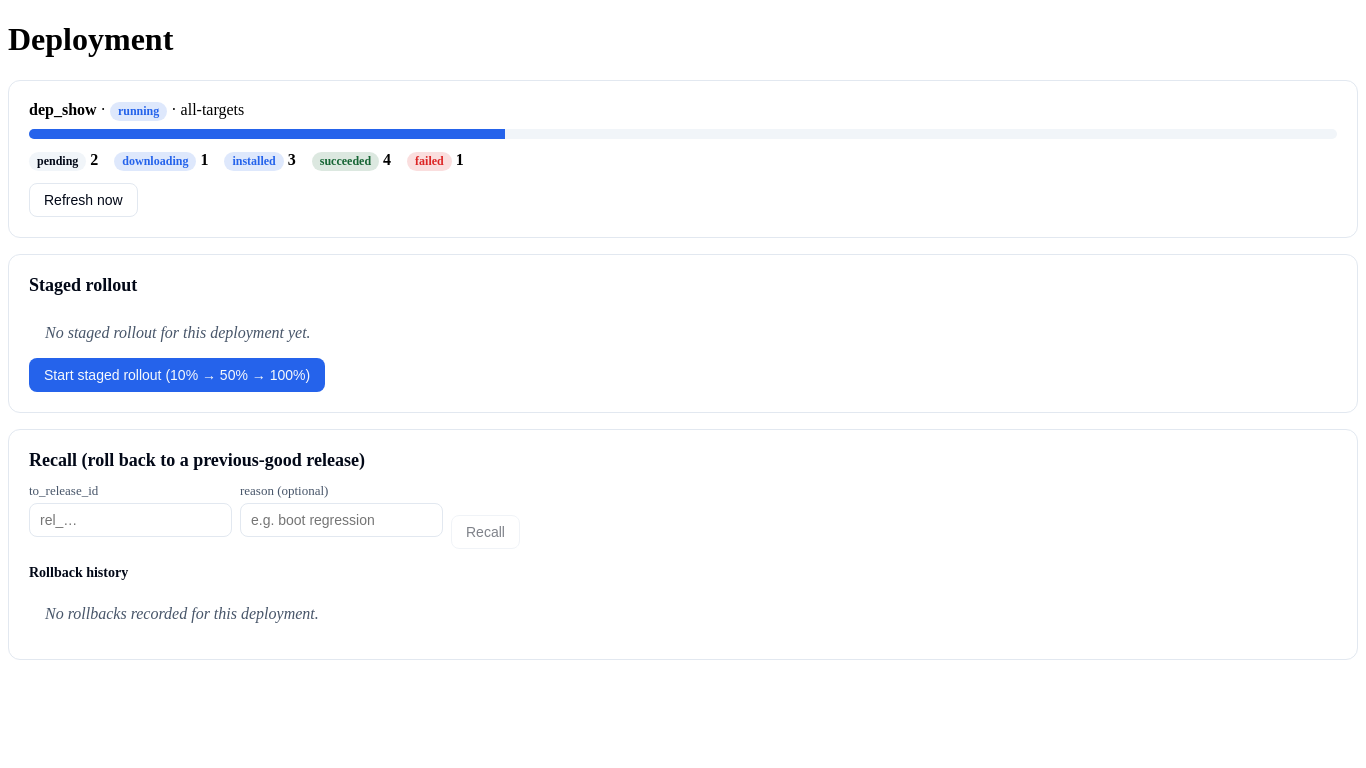
Test case: DeploymentDetail — progress + rollout + recall › records a recall and refetches the rollback history table
The width and height of the screenshot is (1366, 768).
Expected: the text "No rollbacks recorded for this deployment." is shown, [45,605,319,622]
Type "rel_1" into the field with placeholder "rel_…". click: (130, 520)
box: [29,503,232,537]
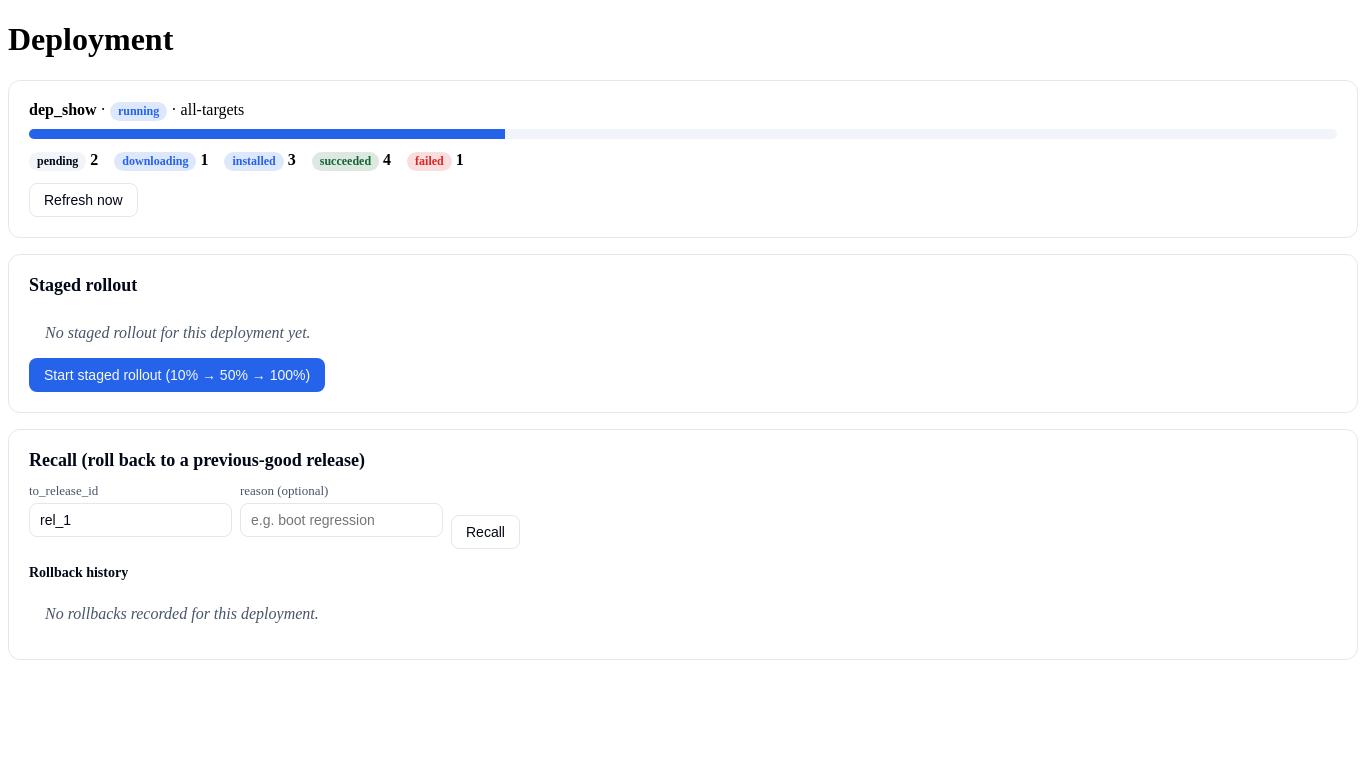
Type "boot regression" into the field with placeholder "e.g. boot regression". click: (342, 520)
box: [240,503,443,537]
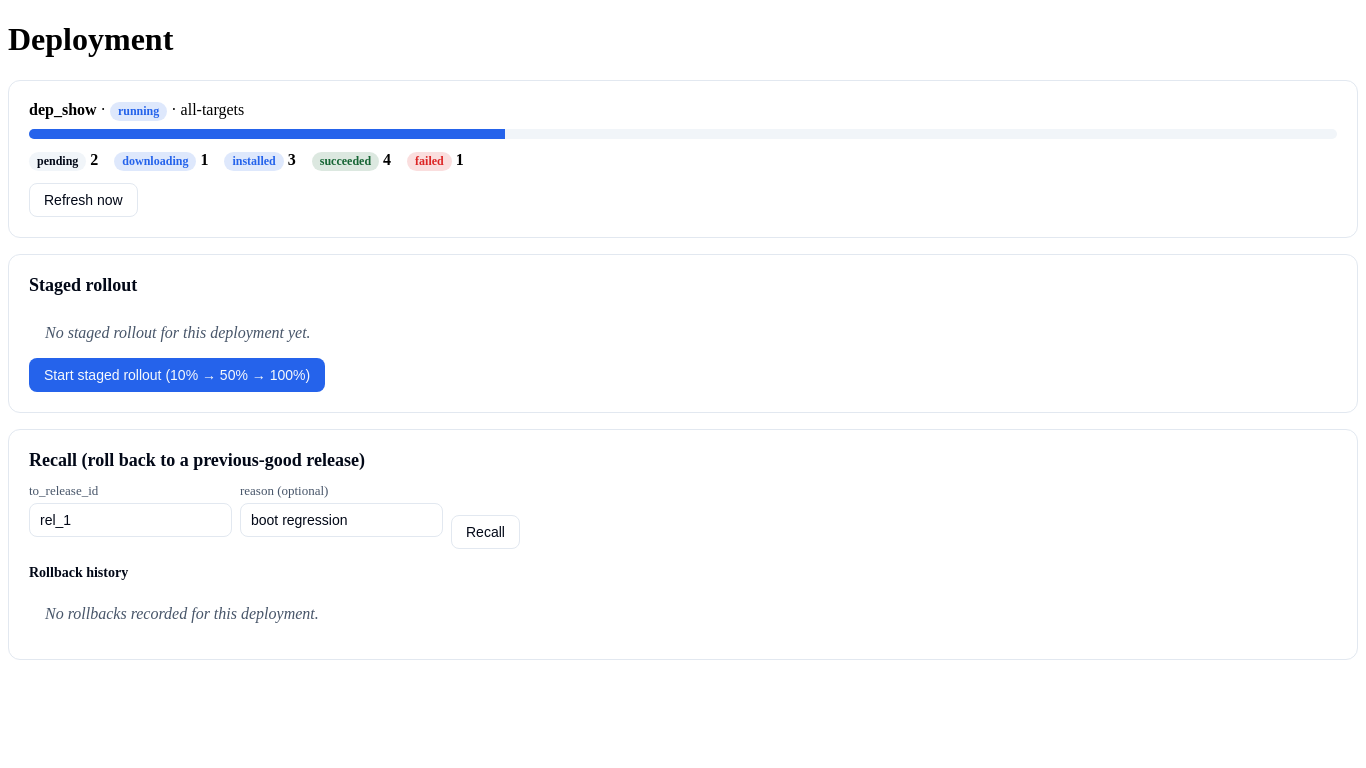
Click the button "Recall". click: (485, 532)
box: [451,515,520,549]
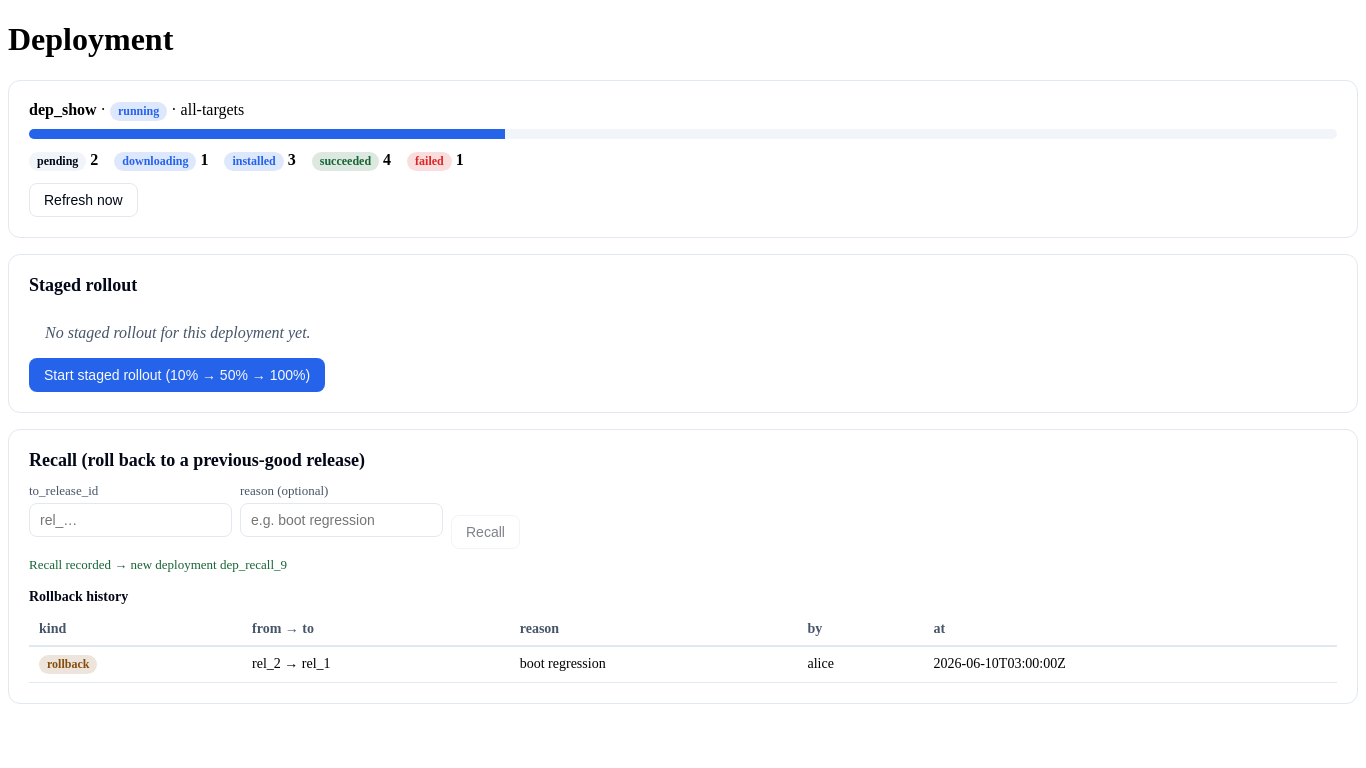
Result: the text "Recall recorded → new deployment dep_recall_9" is shown at [29,557,287,572]
Result: the text "alice" is shown at [797,646,924,682]
Result: the text "rel_2 → rel_1" is shown at [242,646,510,682]
